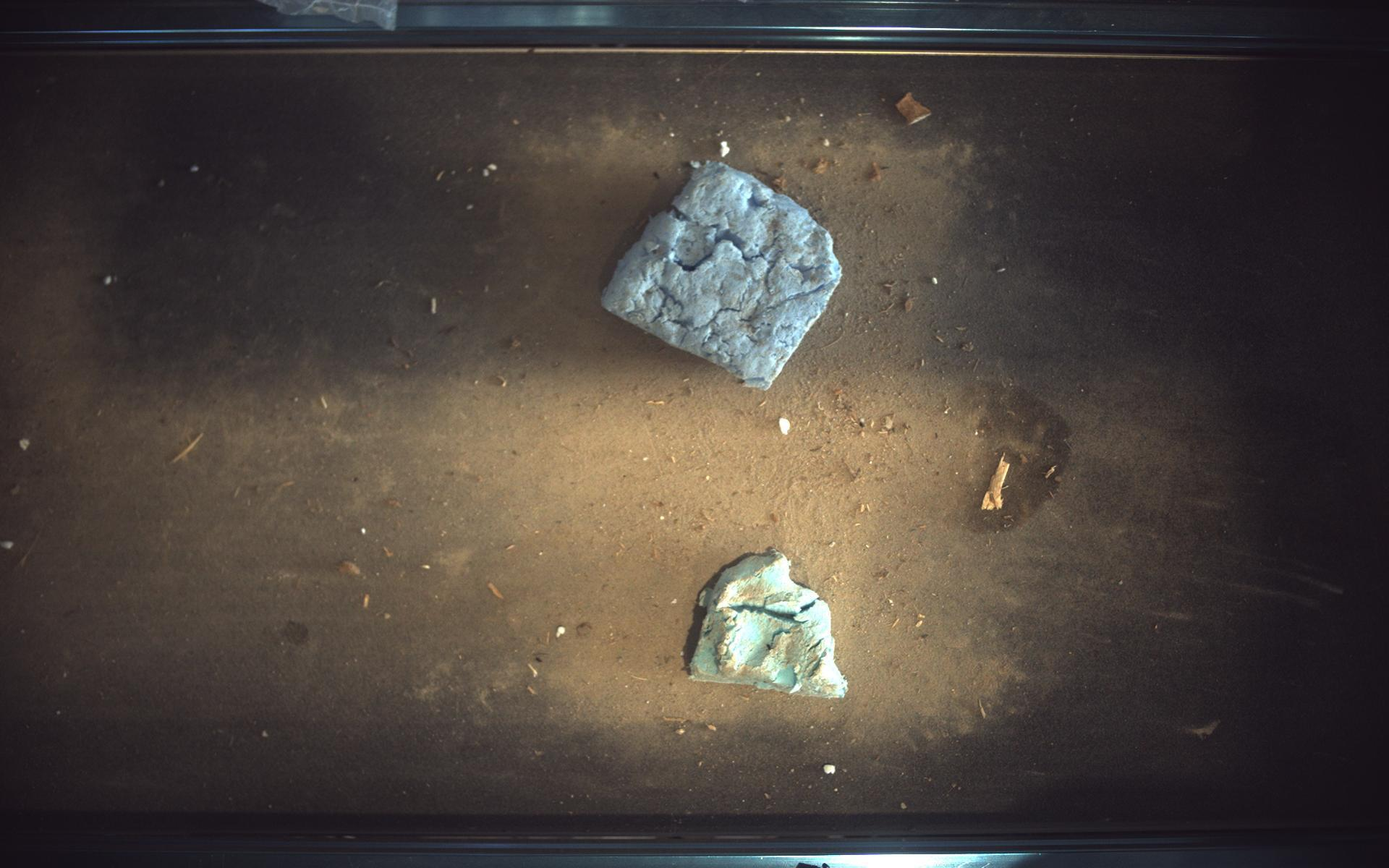foam: (603, 161, 843, 390), (690, 550, 849, 699)
